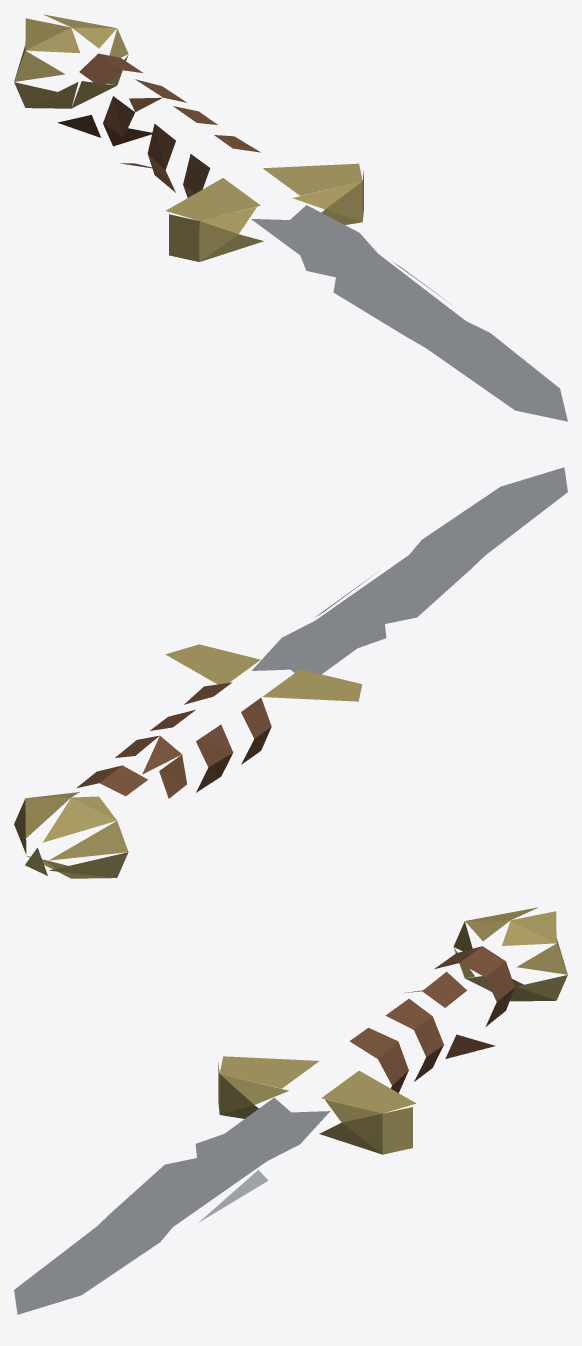
The model's file is chained-dagger.lod.glb.
3 renders of one model, top to bottom at view 1: azimuth 30°, elevation 25°; view 2: azimuth 150°, elevation 25°; view 3: azimuth 330°, elevation 25°, orthographic.
Parts seen in each view (by area): view 1: m; view 2: m; view 3: m.
Boxes of the visible parts, x1,y1,x2,y2 form: m: [14, 14, 567, 421]; m: [14, 467, 567, 878]; m: [14, 907, 567, 1314].
Bounding box in the file's own units: 0.0661 × 0.0274 × 0.3126.
